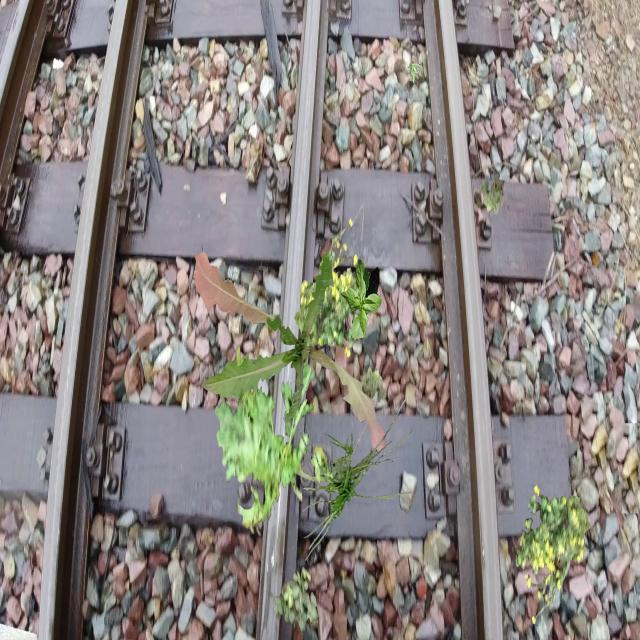Plant: (193, 250, 386, 452), (214, 341, 339, 537), (295, 398, 413, 562), (294, 218, 369, 358), (516, 485, 591, 625), (340, 259, 382, 339), (275, 566, 318, 632), (479, 173, 505, 216), (361, 366, 387, 408), (408, 63, 422, 84)
